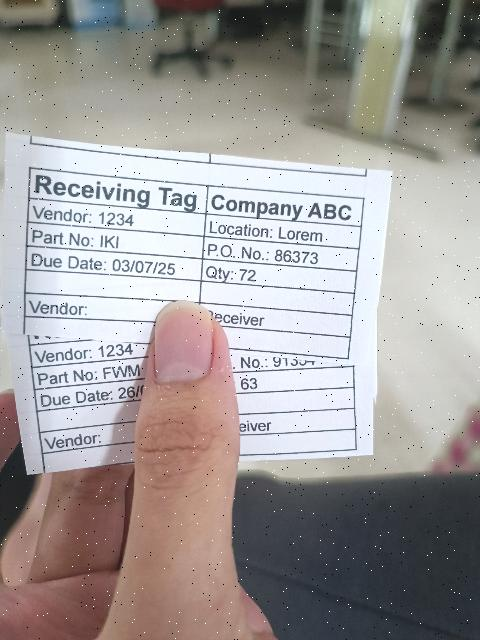PO no: (201, 236, 360, 272), (230, 348, 353, 374)
part no: (27, 222, 206, 261), (31, 356, 148, 392)
qty: (202, 259, 358, 294), (231, 366, 356, 394)
tags: (1, 134, 391, 365), (4, 333, 148, 475), (230, 348, 377, 466)
